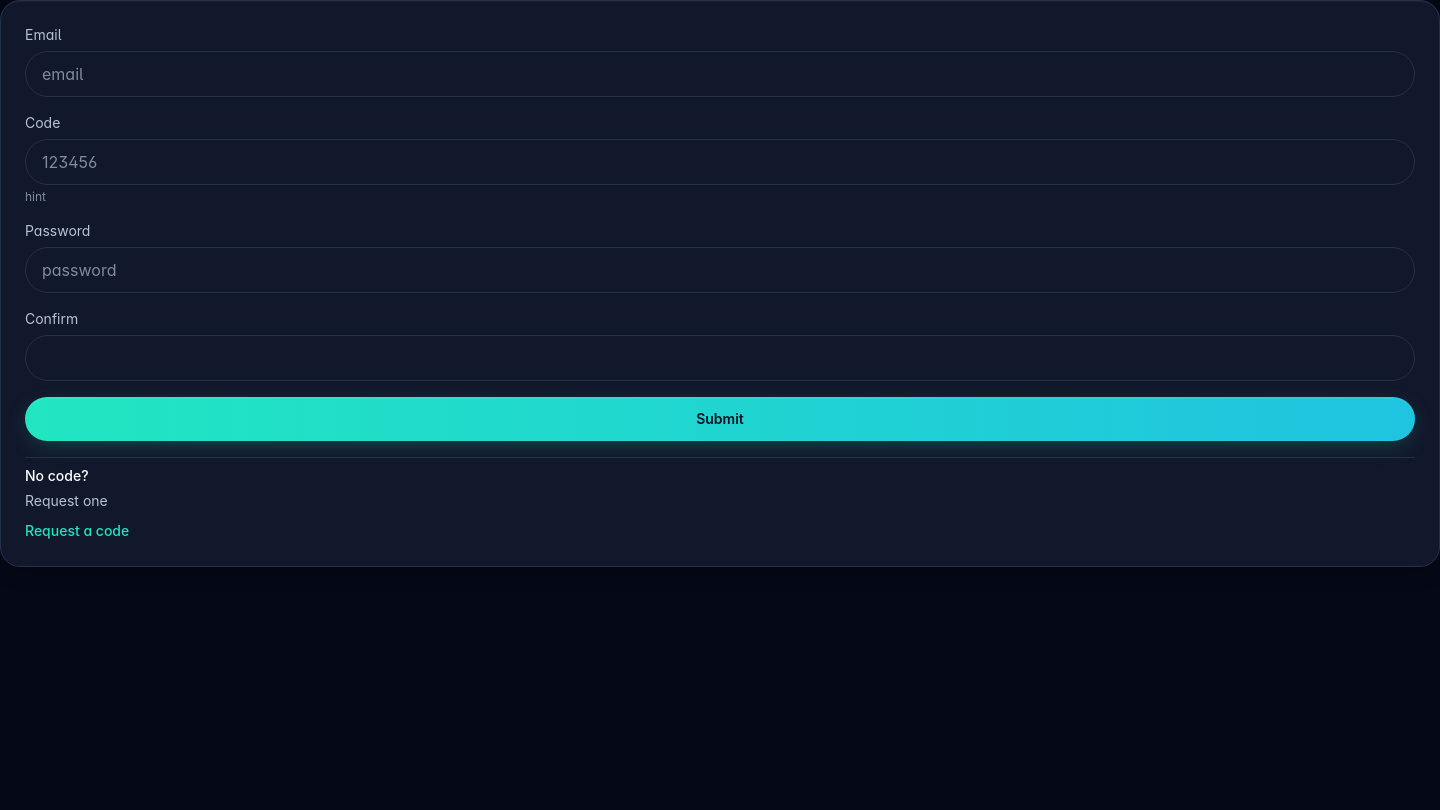
Scenario: ResetPasswordForm › has no ambient-session fallback: the fake auth client exposes no getSession, yet the form never needs it
Type "user-a@example.com" into the field labelled "Email" at point(720, 74), box 25,51 -> 1415,97
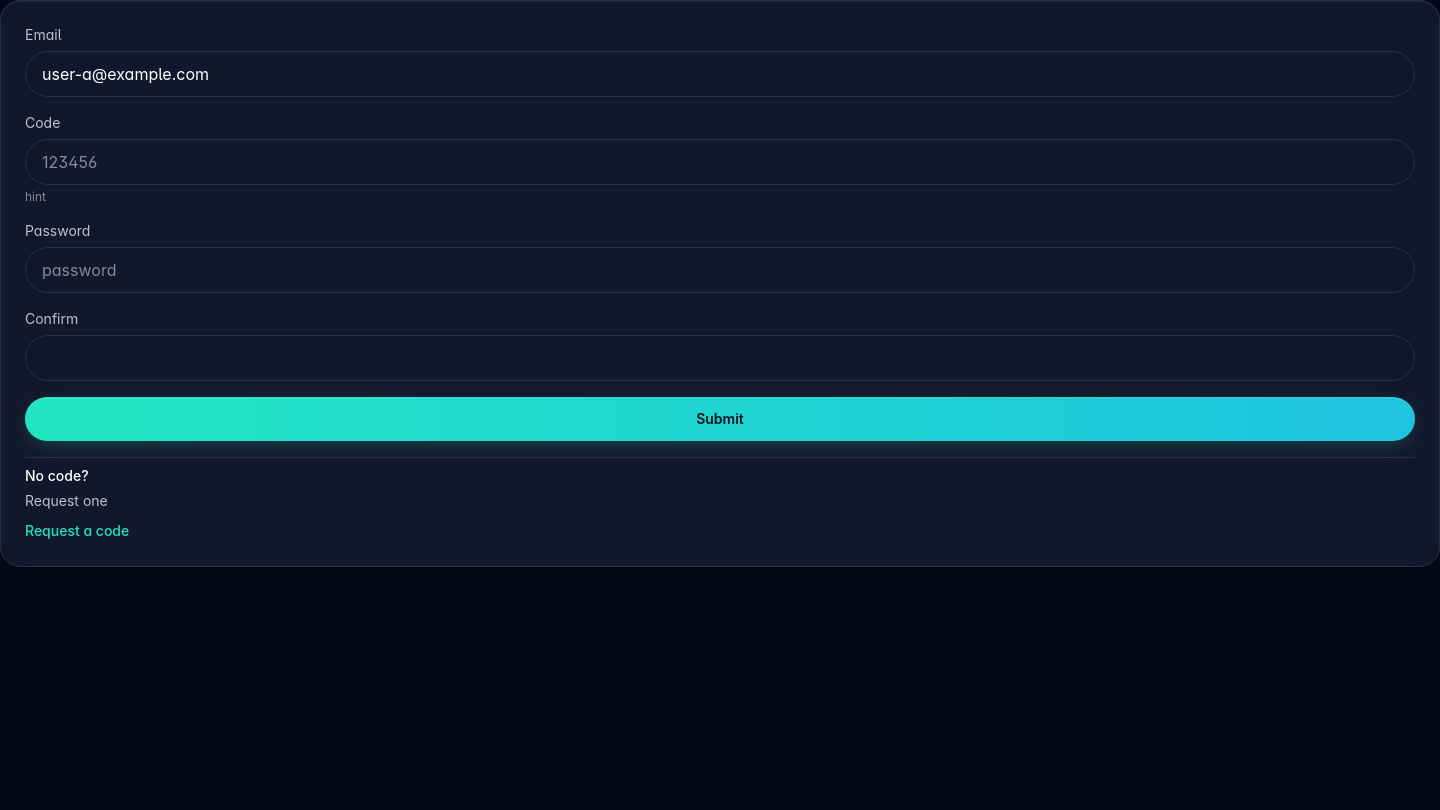
Type "654321" into the field labelled "Code" at point(720, 162), box 25,139 -> 1415,185
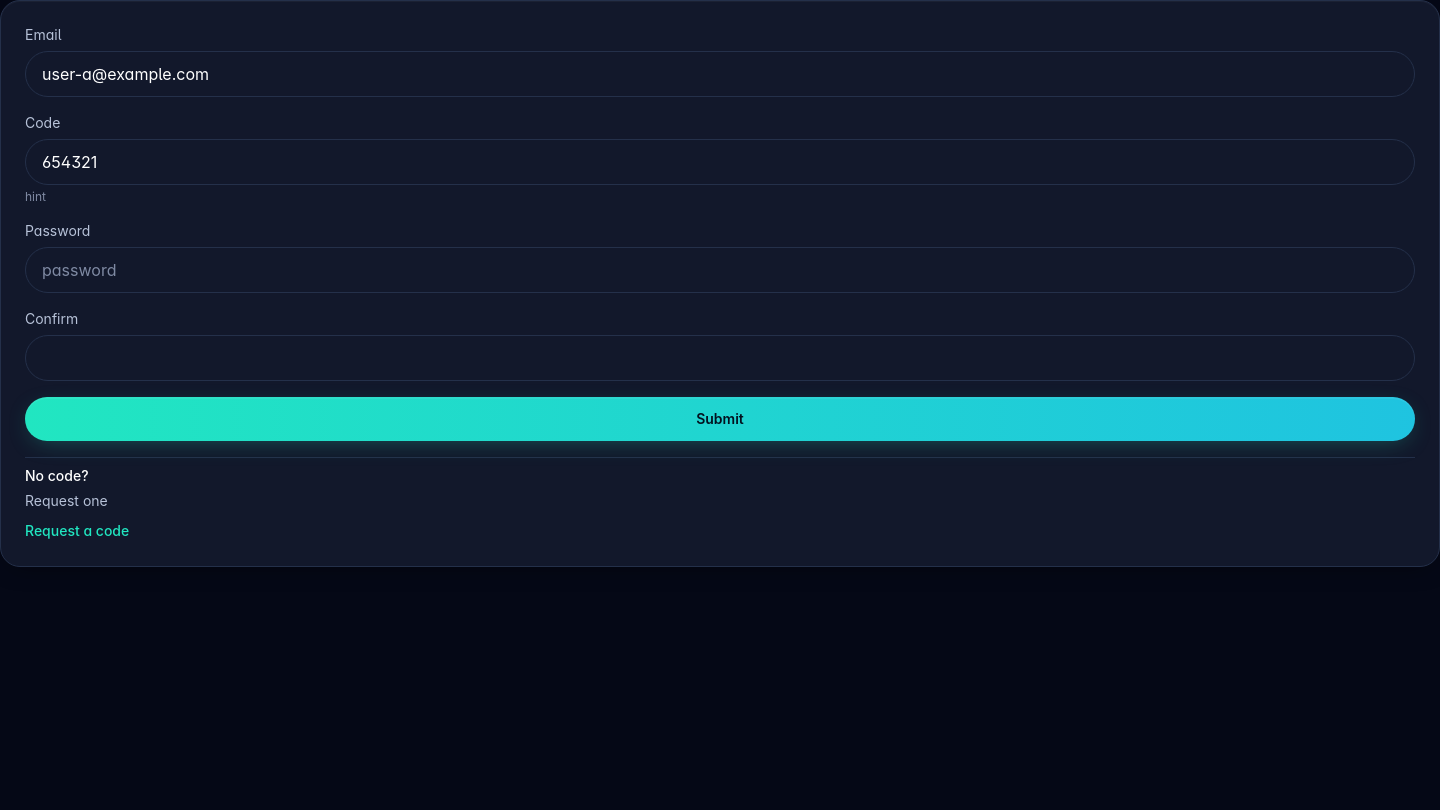
Type "brand-new-password" into the password field labelled "Password" at point(720, 270), box 25,247 -> 1415,293
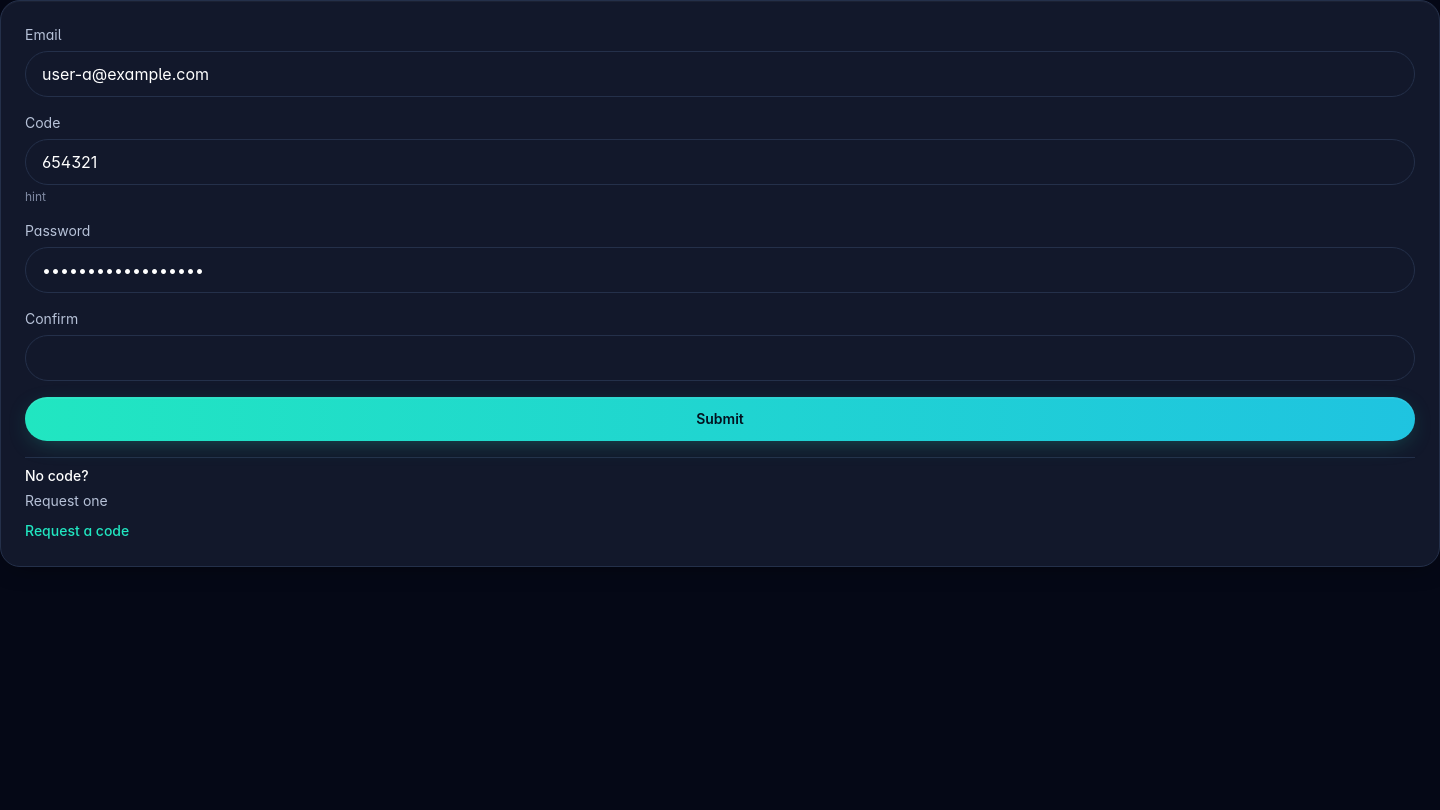
Type "brand-new-password" into the password field labelled "Confirm" at point(720, 358), box 25,335 -> 1415,381
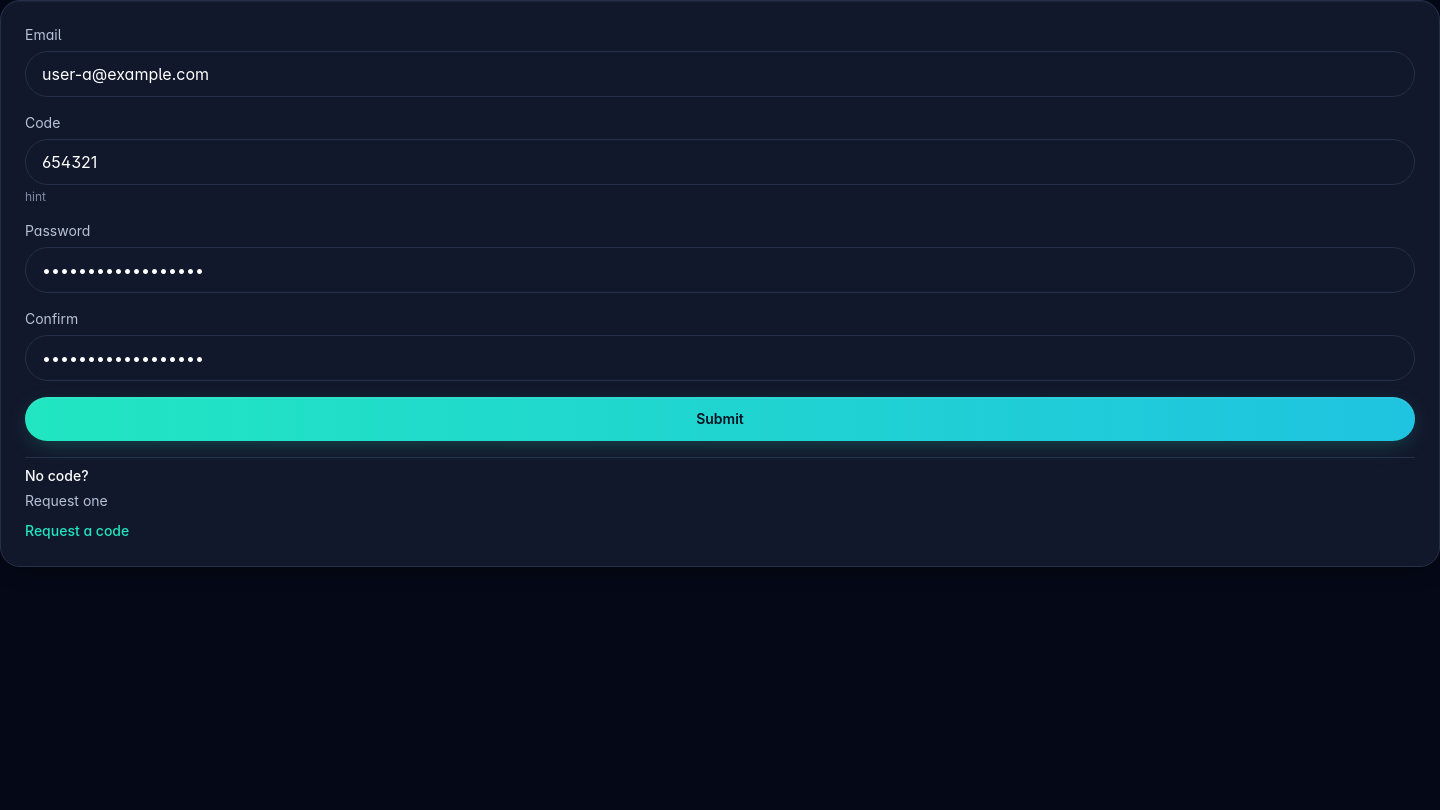
Click the button "Submit" at point(720, 419), box 25,397 -> 1415,441
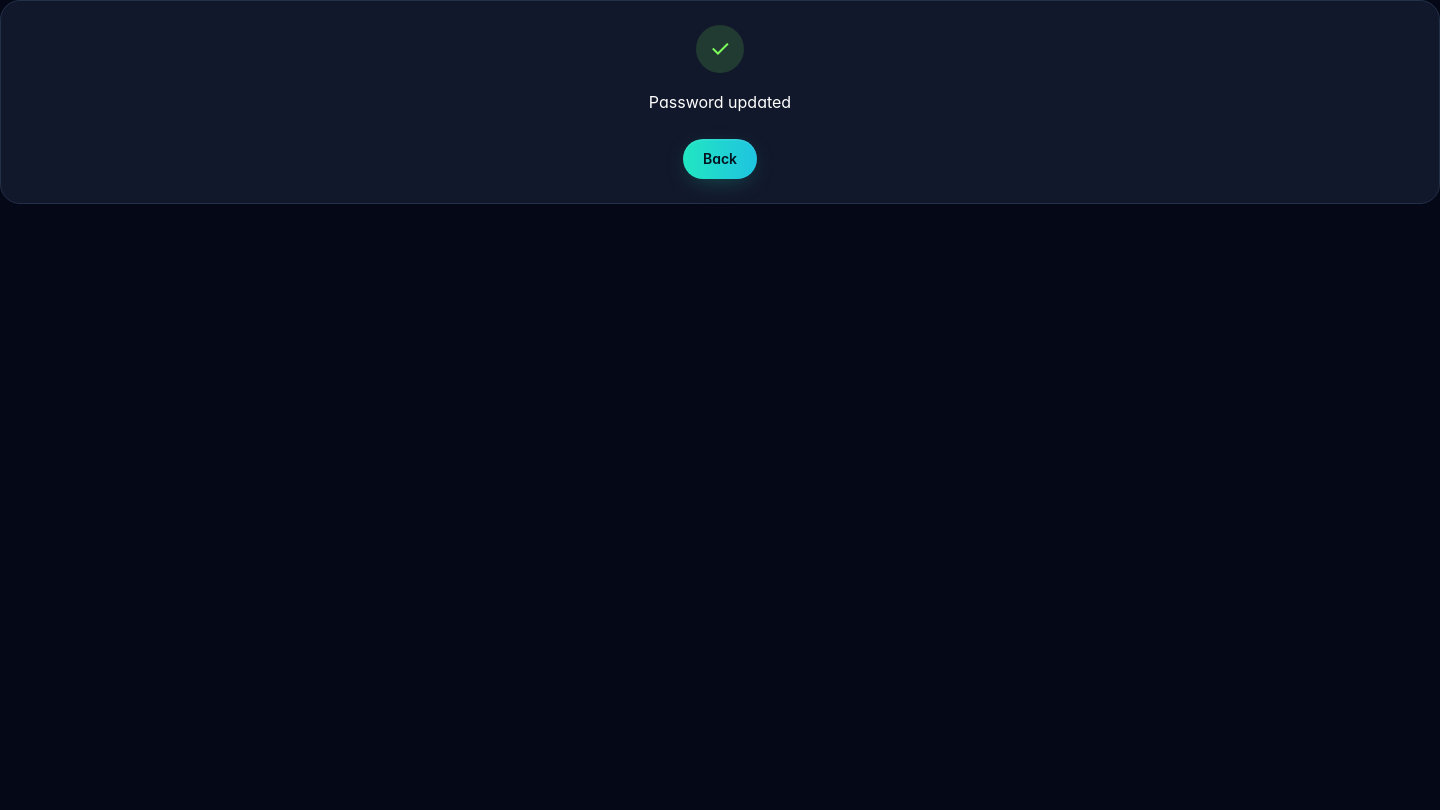
Expected: the text "Password updated" is shown, 649,92 -> 791,112
